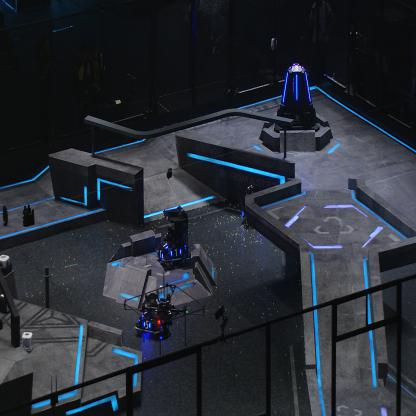car: (156, 205, 189, 268), (134, 292, 167, 335), (241, 183, 262, 223)
